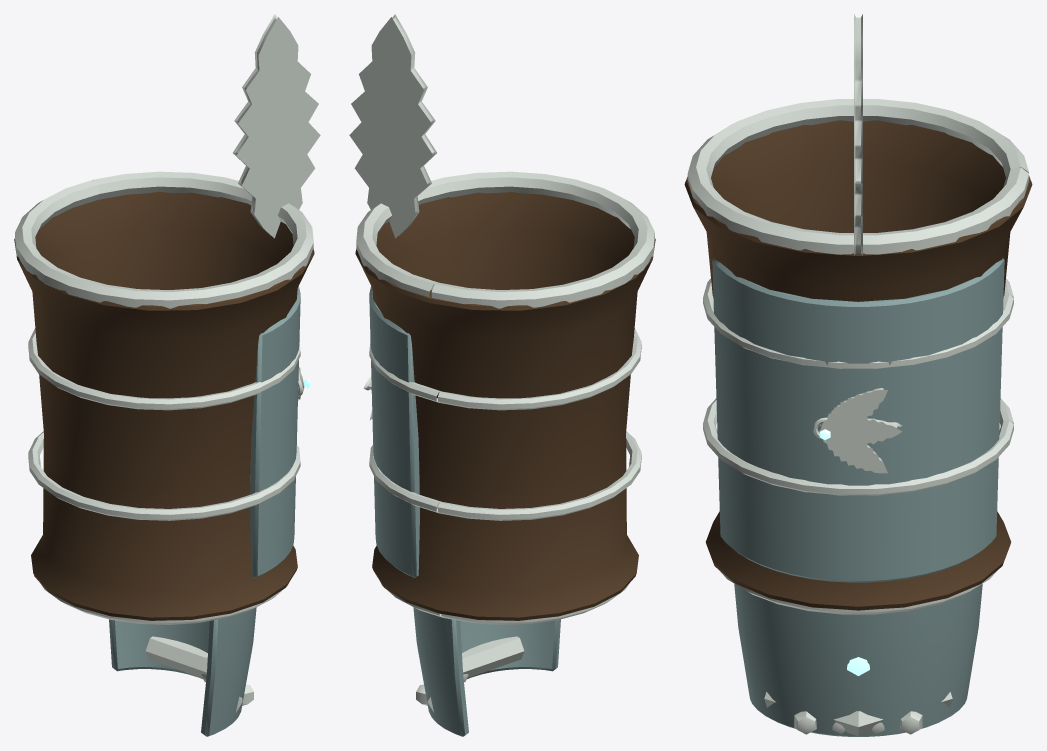
Rendered from boss_gale_nomad_gloves_1.glb.
The picture shows the model from 3 angles, left to right: view 1: azimuth 30°, elevation 25°; view 2: azimuth 150°, elevation 25°; view 3: azimuth 270°, elevation 25°; orthographic projection. The views are drawn at different scales.
Visible parts, largest first — view 1: boss_gale_nomad_gloves_1, AT_hand_L; view 2: boss_gale_nomad_gloves_1, AT_hand_L; view 3: boss_gale_nomad_gloves_1, AT_hand_L.
Part boxes in pixels (<box>): boss_gale_nomad_gloves_1: <box>14,14,320,624</box>; AT_hand_L: <box>109,607,256,736</box>; boss_gale_nomad_gloves_1: <box>349,14,655,624</box>; AT_hand_L: <box>413,607,560,736</box>; boss_gale_nomad_gloves_1: <box>684,14,1032,614</box>; AT_hand_L: <box>734,584,982,736</box>.
Size of the model in its own units: 0.2155 by 0.4777 by 0.2004.
